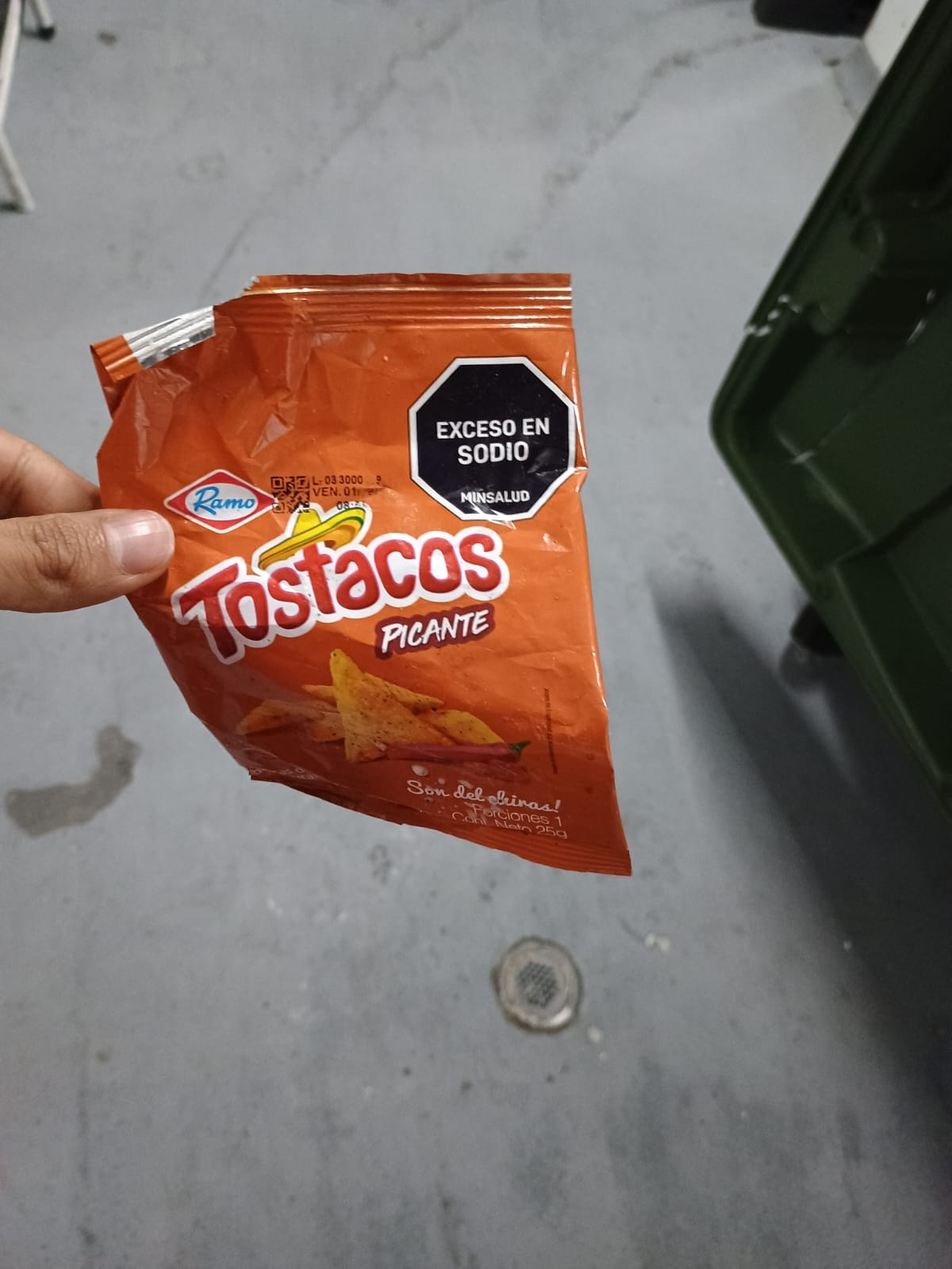Ordinario: (92, 273, 636, 878)
